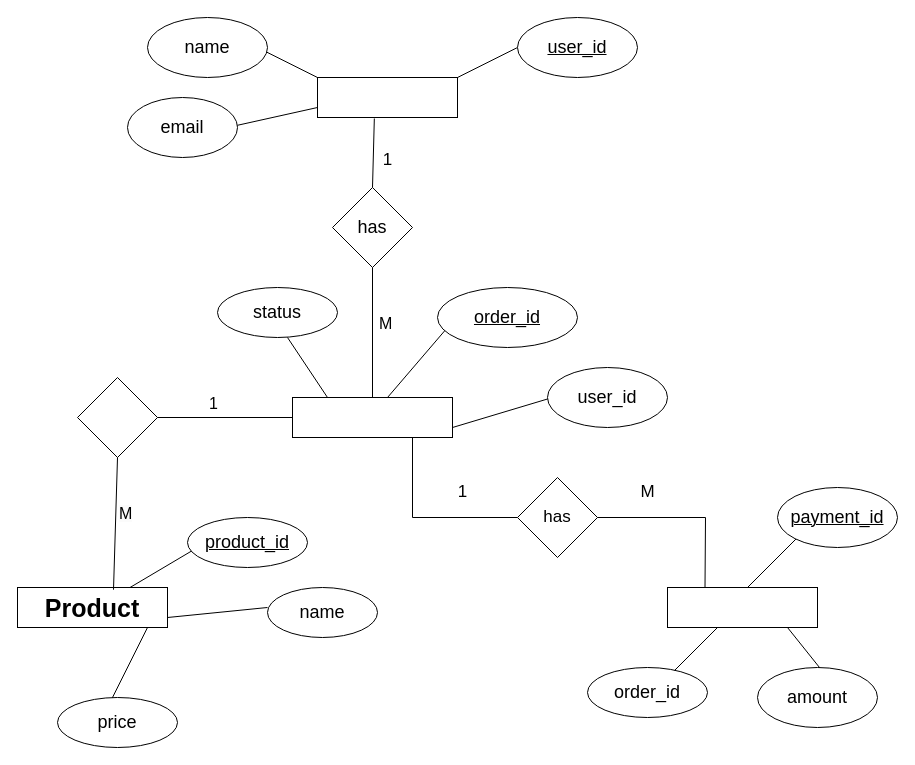
The diagram is 915 pixels wide and 765 high, and some of its shapes have lost their labels. Each missing label, with the centre of its shape:
"Order" belongs at point (372, 417).
"orders" belongs at point (117, 417).
"Payment" belongs at point (742, 607).
"User" belongs at point (387, 97).
